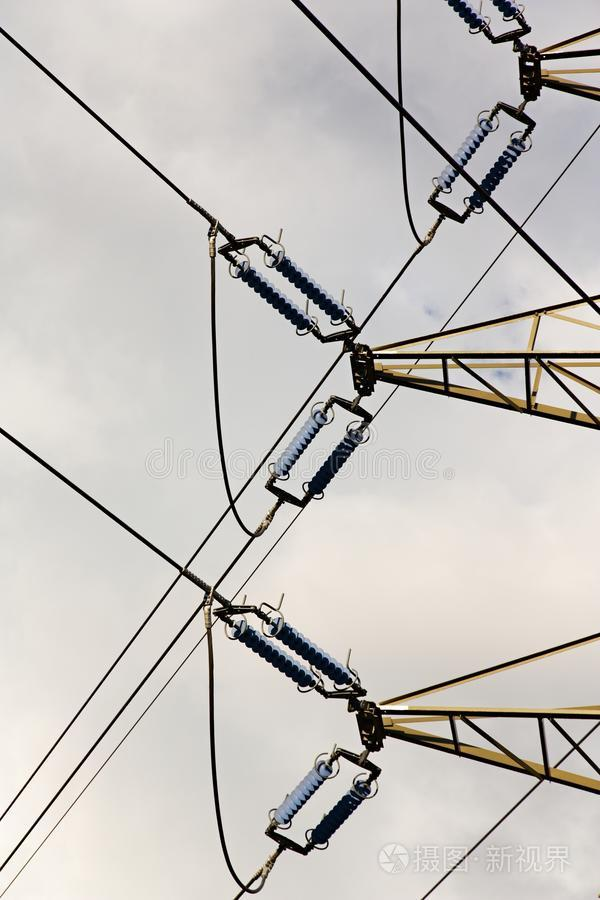insulator: (262, 614, 350, 682), (235, 261, 311, 332), (274, 251, 342, 319), (236, 626, 314, 685), (466, 134, 527, 209), (307, 428, 371, 498), (311, 780, 372, 845), (271, 763, 331, 828), (438, 120, 496, 187), (275, 409, 329, 475), (437, 1, 491, 36), (482, 1, 517, 19)
